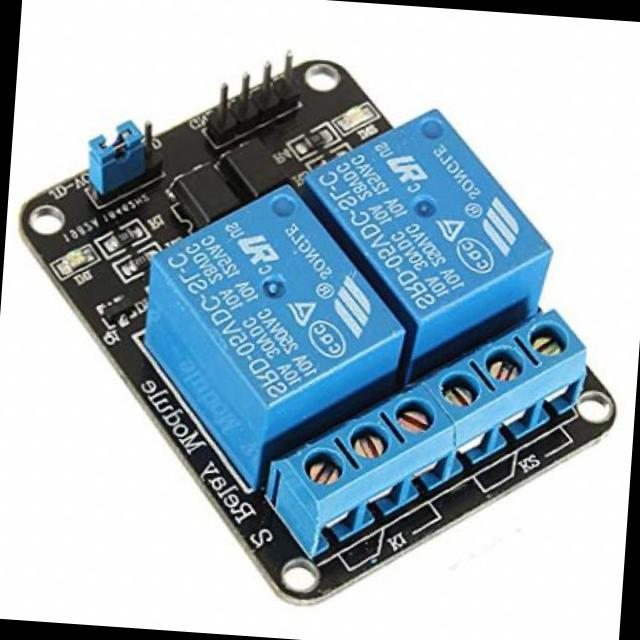IC: (164, 158, 243, 234), (225, 136, 287, 192)
LED: (336, 100, 374, 133), (61, 241, 95, 273)
connector: (298, 294, 590, 584), (197, 46, 300, 132), (78, 111, 166, 198)
resistor: (298, 122, 334, 154), (122, 246, 158, 272), (105, 222, 136, 250)
transistor: (92, 286, 134, 329)
